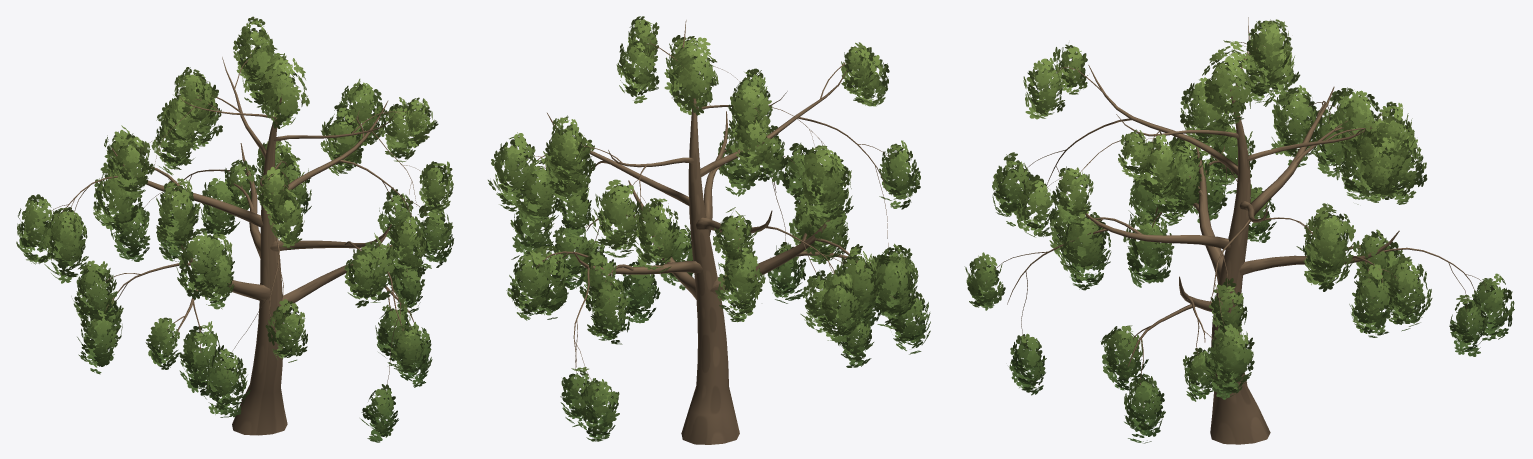
The model's file is tree.gltf.
The picture shows the model from 3 angles, left to right: view 1: azimuth 30°, elevation 25°; view 2: azimuth 150°, elevation 25°; view 3: azimuth 270°, elevation 25°; orthographic projection. The views are drawn at different scales.
Parts seen in each view (by area): view 1: Tree_LOD0; view 2: Tree_LOD0; view 3: Tree_LOD0.
Part boxes in pixels (<box>): Tree_LOD0: <box>16,16,454,442</box>; Tree_LOD0: <box>488,16,930,444</box>; Tree_LOD0: <box>964,17,1514,444</box>.
Bounding box in the file's own units: 19.61 × 17.95 × 22.48.
Materials: 2 (2 with a texture image).
